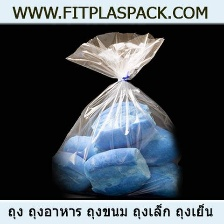snack: (46, 25, 189, 200)
